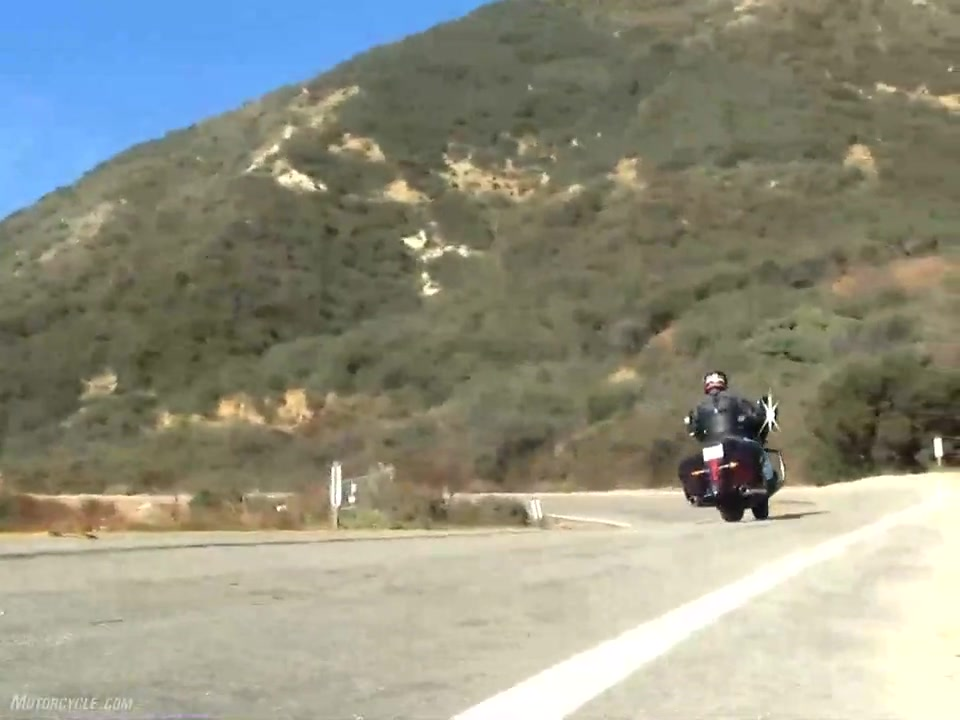motorbike: (678, 405, 787, 525)
